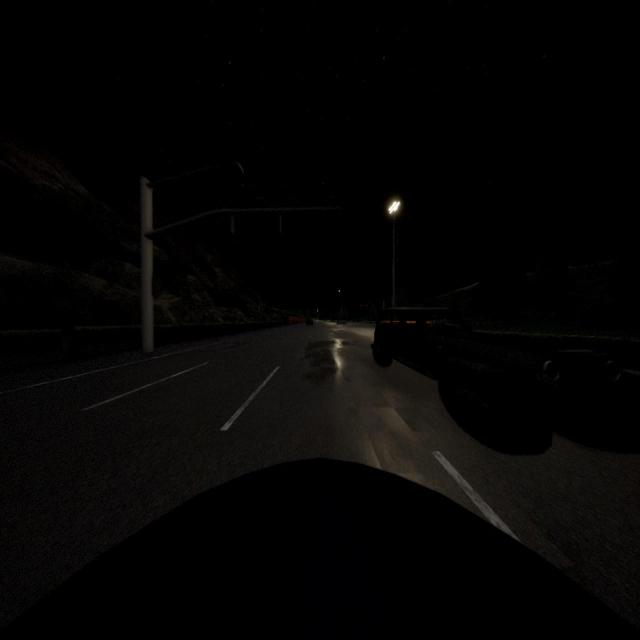Vehicle: (0, 462, 640, 640), (372, 268, 640, 448), (304, 316, 314, 326)
traffic_light: (275, 209, 282, 235), (230, 210, 235, 235)
